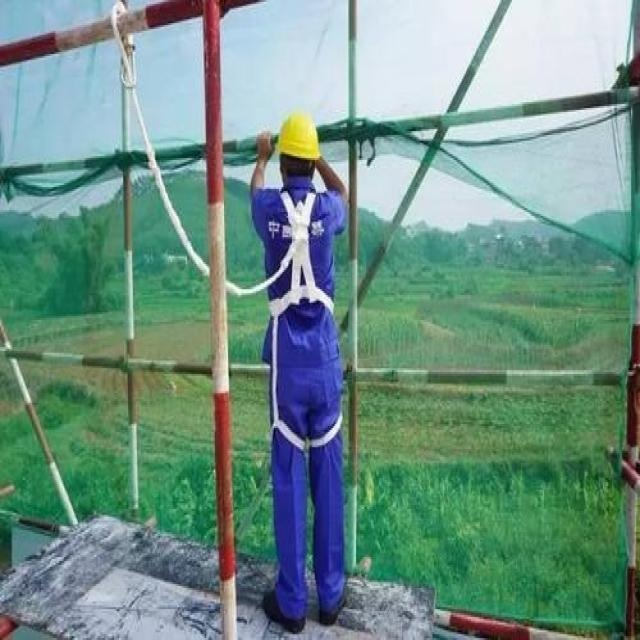Arnes_seguridad: (260, 179, 339, 324)
